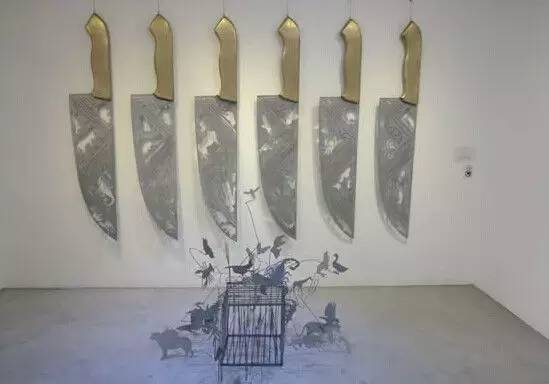knief: (376, 13, 460, 241)
